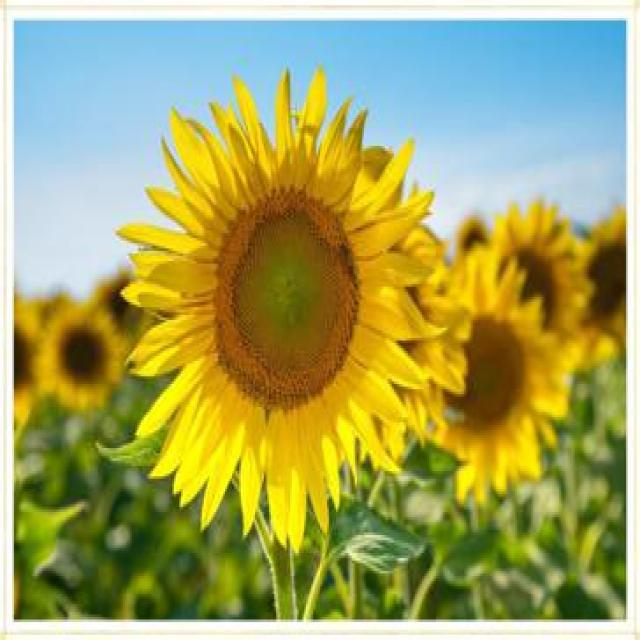sunflower: (111, 43, 452, 566), (399, 241, 575, 530), (487, 196, 586, 347), (37, 294, 128, 412)
